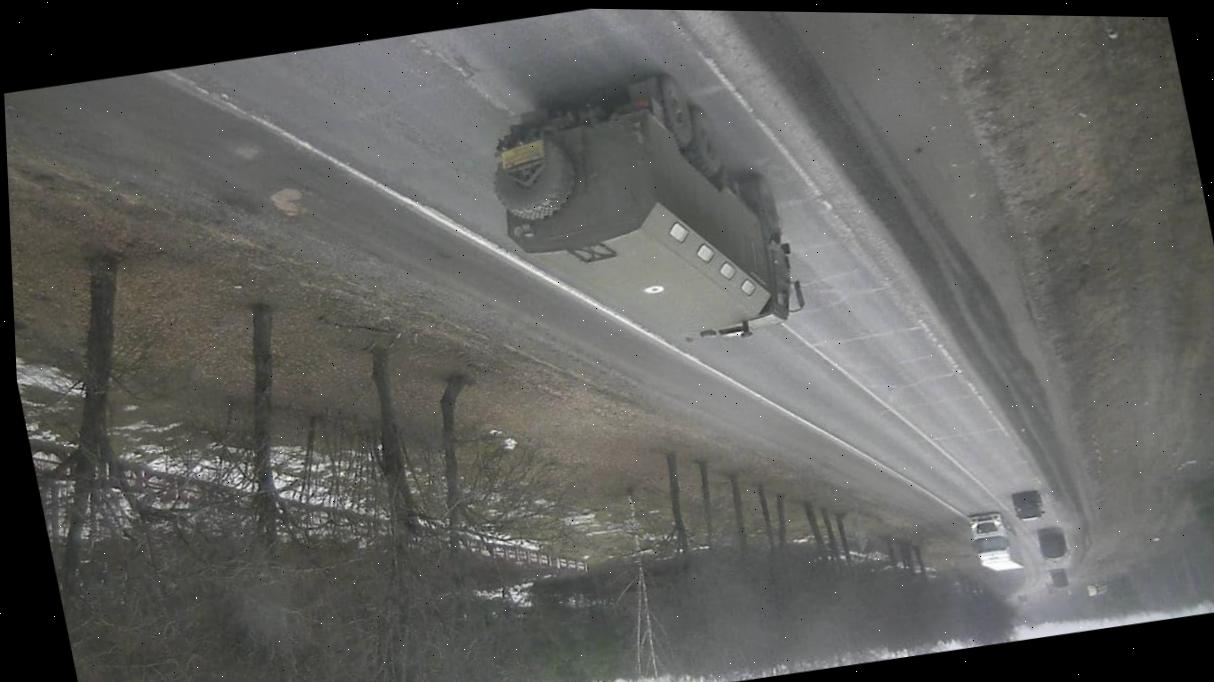car: (1006, 480, 1049, 525)
truck: (477, 49, 813, 379), (1030, 520, 1074, 564), (1044, 565, 1075, 594)
